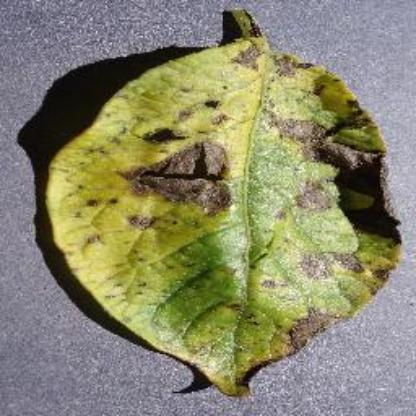Early-Blight: (44, 6, 410, 400)
